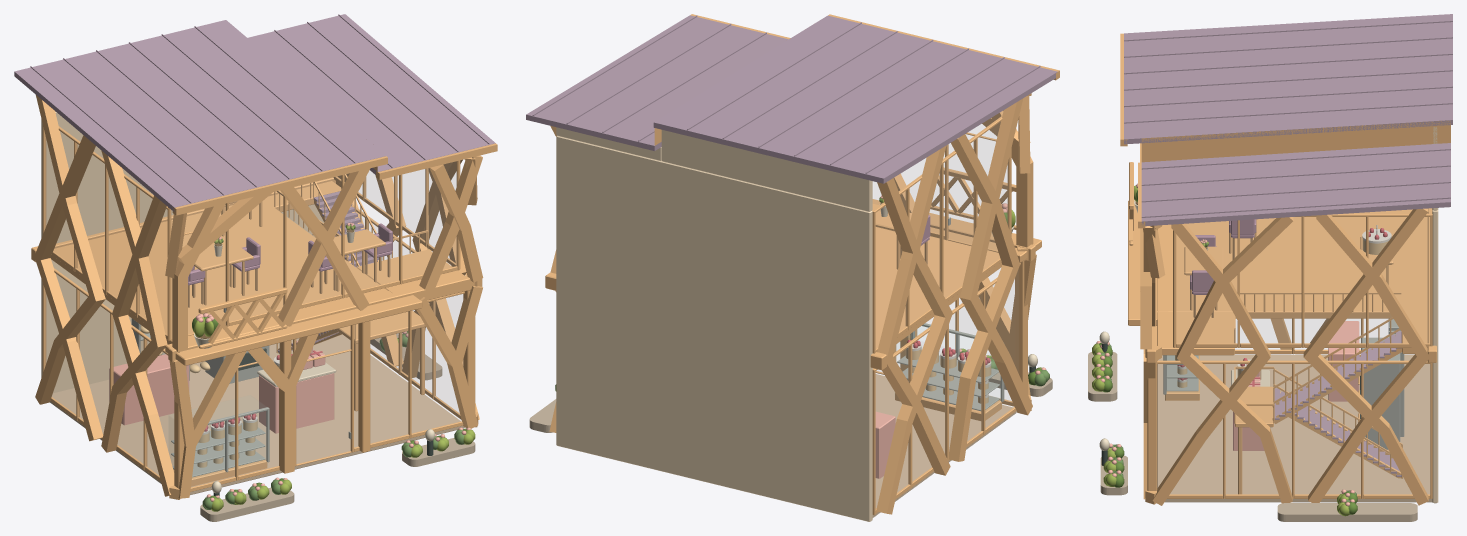
The picture shows the model from 3 angles, left to right: view 1: azimuth 30°, elevation 25°; view 2: azimuth 150°, elevation 25°; view 3: azimuth 270°, elevation 25°; orthographic projection. The views are drawn at different scales.
Parts seen in each view (by area): view 1: R 左高紫灰屋面, A 侧立面连续斜交木构, A 前立面变斜率木构, R 右低紫灰屋面, S 一层楼面, S 二层主楼面, A 实体后墙, S 前挑露台, R 立缝, A 首层木门柱, A 上层侧玻璃, A 侧立面玻璃 (+25 smaller); view 2: A 实体后墙, R 左高紫灰屋面, A 侧立面连续斜交木构, R 右低紫灰屋面, A 后墙高屋面封口, S 二层主楼面, R 立缝, A 前立面变斜率木构, S 一层楼面, A 侧立面玻璃, A 上层侧玻璃, I 展柜托盘 (+11 smaller); view 3: R 左高紫灰屋面, A 侧立面连续斜交木构, R 右低紫灰屋面, S 一层楼面, S 二层主楼面, R 高低屋面封边, R 立缝, L 局部花池, A 侧立面玻璃, A 上层侧玻璃, S 实际双跑梯级, S 二层前部完整楼面 (+23 smaller).
Boxes of the visible parts, left/top/right/bottom form: R 左高紫灰屋面: left=14, top=20, right=385, bottom=211; A 侧立面连续斜交木构: left=34, top=95, right=479, bottom=496; A 前立面变斜率木构: left=169, top=155, right=483, bottom=498; R 右低紫灰屋面: left=248, top=14, right=495, bottom=174; S 一层楼面: left=50, top=334, right=464, bottom=494; S 二层主楼面: left=50, top=200, right=391, bottom=344; A 实体后墙: left=41, top=112, right=324, bottom=393; S 前挑露台: left=165, top=291, right=422, bottom=365; R 立缝: left=30, top=14, right=489, bottom=203; A 首层木门柱: left=174, top=290, right=475, bottom=488; A 上层侧玻璃: left=42, top=124, right=460, bottom=340; A 侧立面玻璃: left=42, top=204, right=461, bottom=481; A 实体后墙: left=556, top=135, right=872, bottom=521; R 左高紫灰屋面: left=653, top=15, right=1057, bottom=183; A 侧立面连续斜交木构: left=549, top=98, right=1032, bottom=514; R 右低紫灰屋面: left=526, top=15, right=788, bottom=150; A 后墙高屋面封口: left=661, top=130, right=872, bottom=211; S 二层主楼面: left=875, top=227, right=1015, bottom=347; R 立缝: left=532, top=15, right=1040, bottom=173; A 前立面变斜率木构: left=893, top=111, right=1036, bottom=395; S 一层楼面: left=872, top=374, right=1016, bottom=517; A 侧立面玻璃: left=872, top=263, right=1020, bottom=515; A 上层侧玻璃: left=872, top=116, right=1011, bottom=353; I 展柜托盘: left=897, top=355, right=999, bottom=411; R 左高紫灰屋面: left=1124, top=14, right=1452, bottom=144; A 侧立面连续斜交木构: left=1152, top=208, right=1429, bottom=505; R 右低紫灰屋面: left=1141, top=143, right=1450, bottom=226; S 一层楼面: left=1157, top=355, right=1432, bottom=502; S 二层主楼面: left=1157, top=209, right=1427, bottom=318; R 高低屋面封边: left=1141, top=120, right=1450, bottom=162; R 立缝: left=1124, top=20, right=1452, bottom=217; L 局部花池: left=1088, top=352, right=1417, bottom=521; A 侧立面玻璃: left=1157, top=318, right=1432, bottom=498; A 上层侧玻璃: left=1173, top=213, right=1432, bottom=347; S 实际双跑梯级: left=1274, top=331, right=1401, bottom=476; S 二层前部完整楼面: left=1157, top=312, right=1234, bottom=355.
Size of the model in its own units: 21.43 by 19.08 by 18.75.
